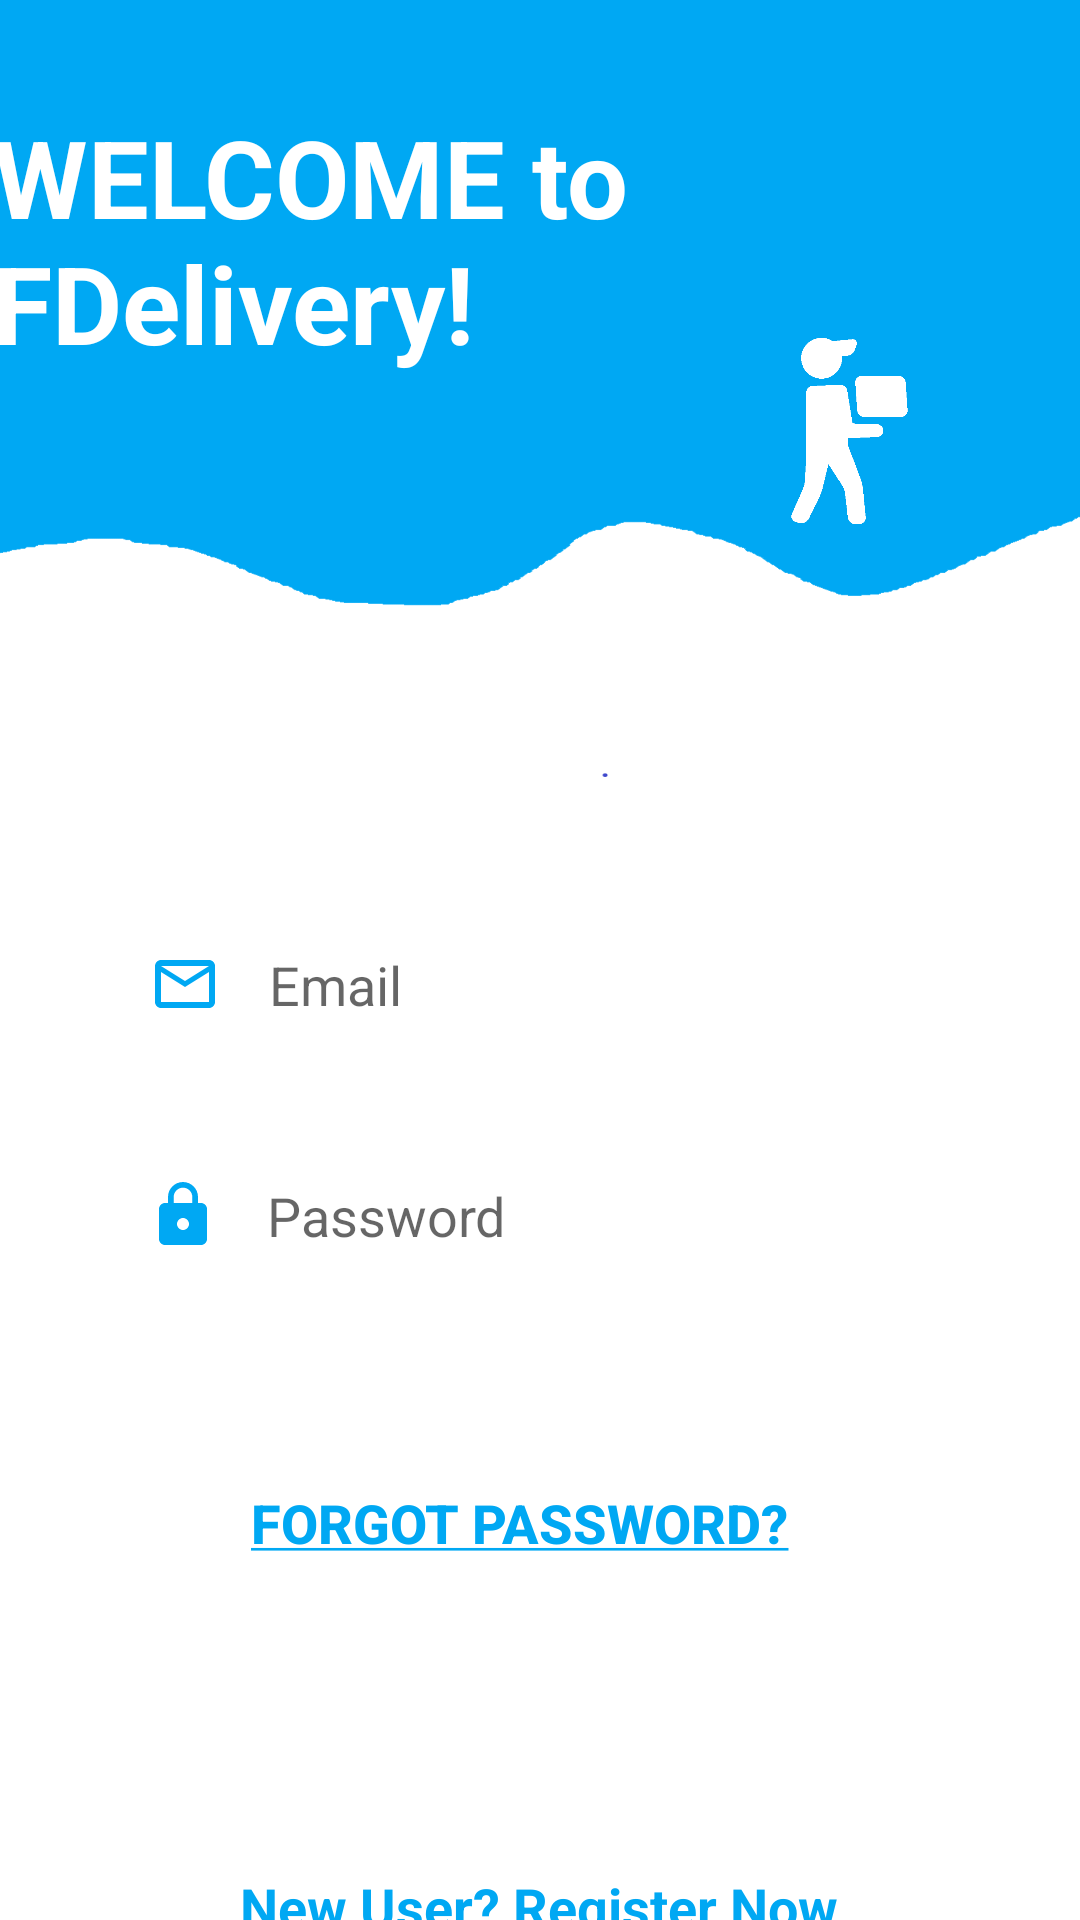

Icon click points for this 1080 × 1920 phone screenshot, format (x=x, y=y):
deliveryman: (x=849, y=431)
